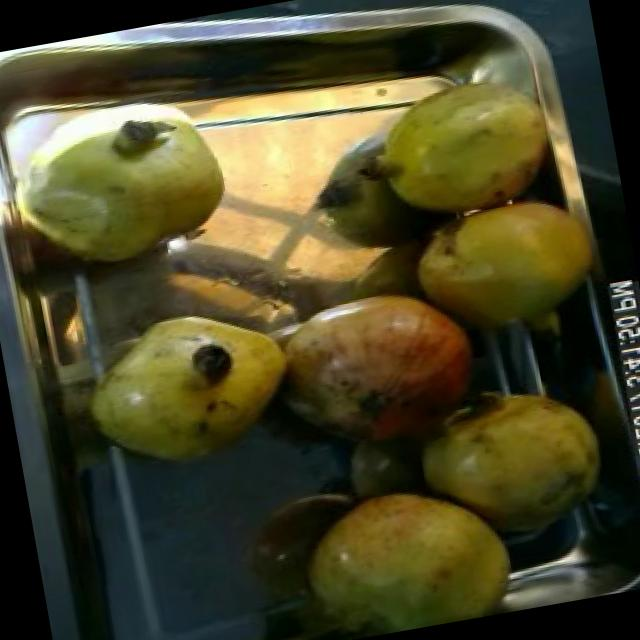fruit: (61, 282, 316, 492), (2, 82, 250, 290), (254, 261, 501, 467), (281, 460, 539, 640), (399, 367, 622, 563), (337, 52, 566, 237), (392, 178, 612, 352)
